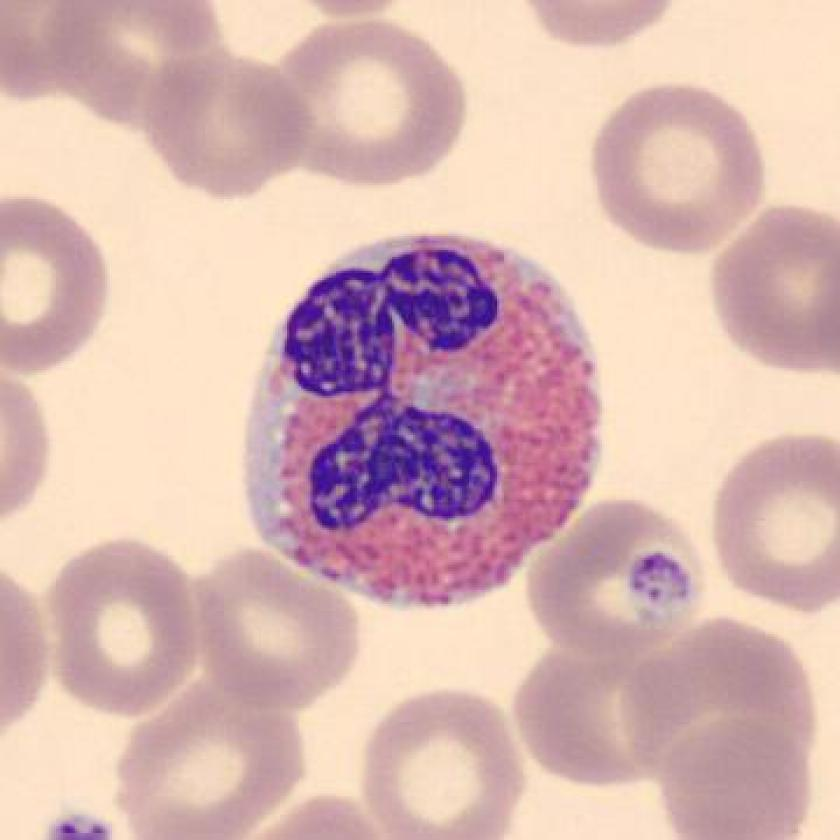eosinophil: (227, 218, 615, 626)
